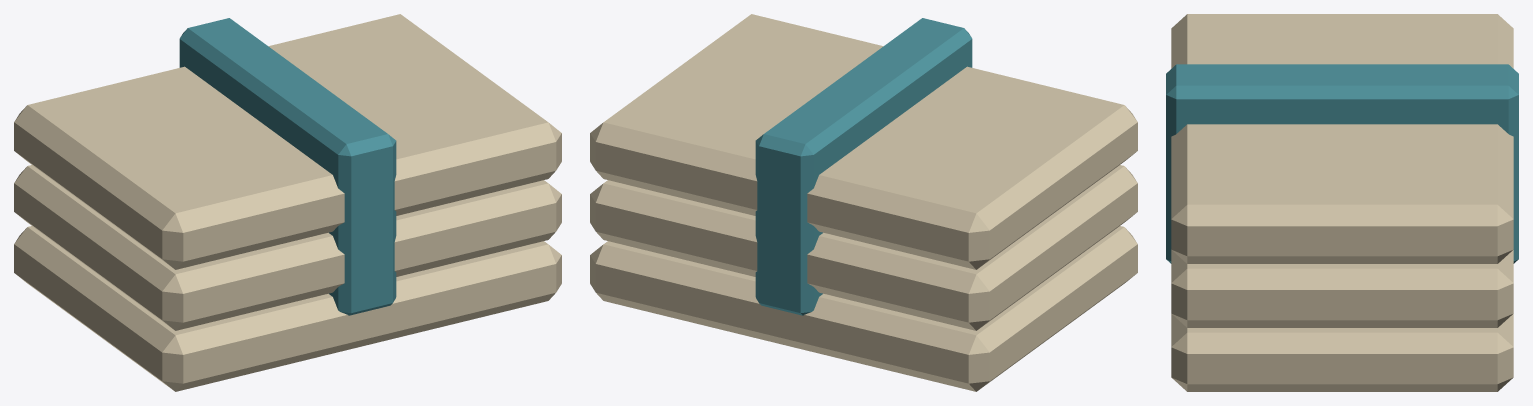
File: sailcloth.glb
3 views of the same model, side by side, from view 1: azimuth 30°, elevation 25°; view 2: azimuth 150°, elevation 25°; view 3: azimuth 270°, elevation 25° (orthographic). The views are drawn at different scales.
Parts seen in each view (by area): view 1: fold; view 2: fold; view 3: fold.
Part boxes in pixels (bbox=[...]): fold: bbox=[14, 14, 561, 391]; fold: bbox=[590, 14, 1137, 391]; fold: bbox=[1166, 14, 1518, 391].
Bounding box in the file's own units: 0.48 × 0.2425 × 0.35.
